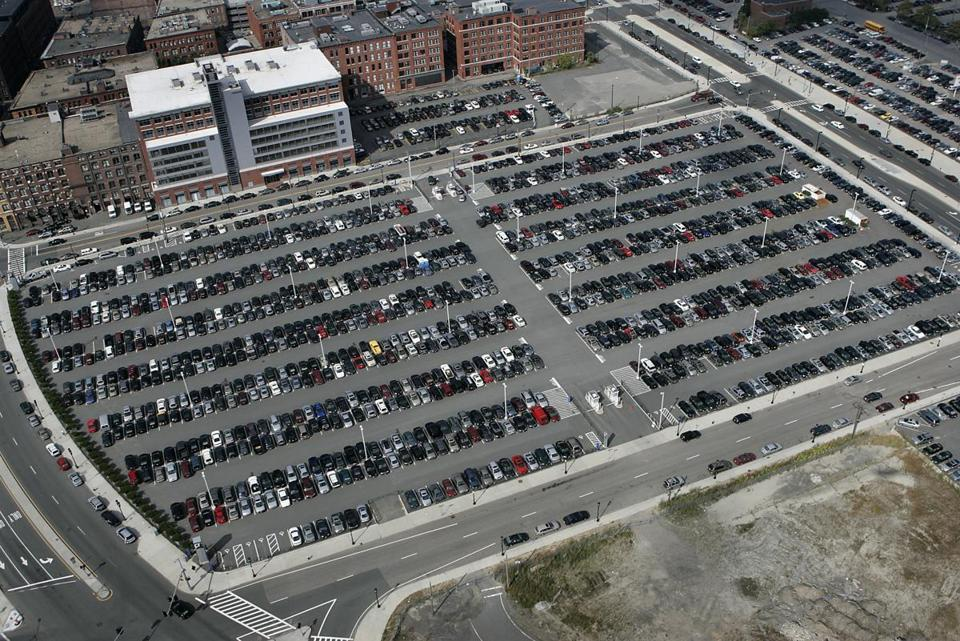empty_space: (251, 536, 277, 564), (239, 541, 261, 570), (572, 431, 598, 455), (648, 407, 670, 433), (272, 531, 295, 555), (663, 402, 687, 423), (217, 546, 238, 569), (718, 388, 736, 414), (698, 356, 719, 374), (551, 263, 567, 280), (81, 340, 95, 358), (39, 292, 54, 307), (133, 270, 147, 285), (460, 164, 474, 179), (145, 240, 161, 253), (92, 339, 105, 354), (141, 326, 157, 338), (132, 245, 145, 255)
